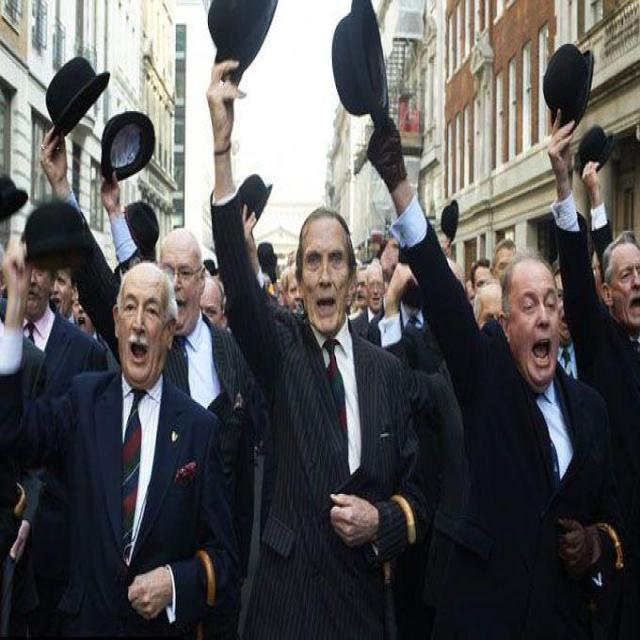head: (500, 250, 566, 389), (295, 208, 355, 330), (115, 262, 172, 384), (158, 230, 203, 338), (602, 232, 640, 332), (46, 265, 74, 314), (366, 264, 386, 310)
